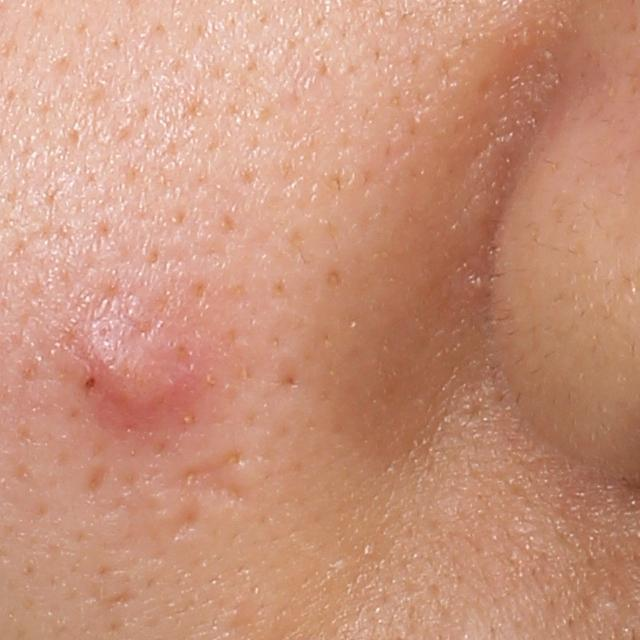atrophic_scar: (181, 446, 252, 501), (163, 502, 210, 543), (84, 460, 113, 505)
papule: (75, 321, 197, 426)
